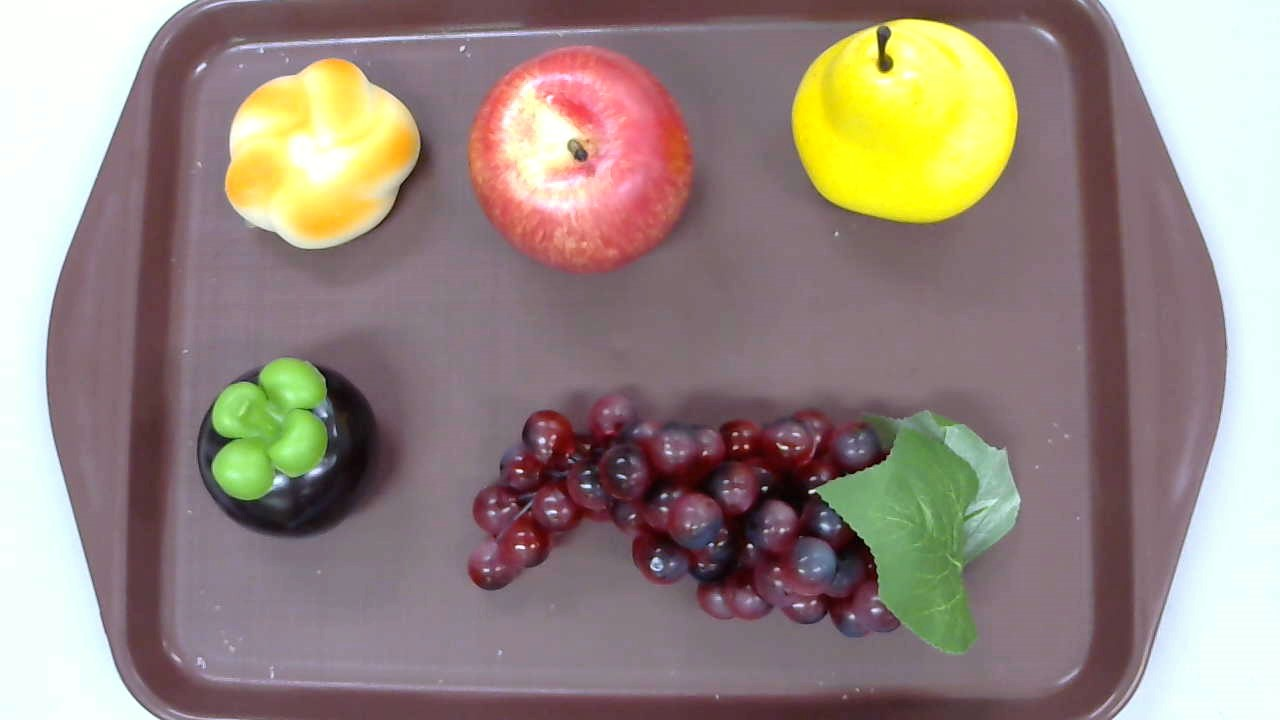grape: (468, 394, 1022, 655)
mangosteen: (197, 356, 381, 539)
red apple: (466, 44, 697, 276)
twist bread: (223, 58, 421, 248)
yellow pear: (790, 16, 1017, 225)
